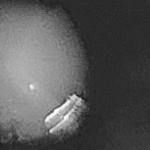colony: (0, 0, 107, 146)
